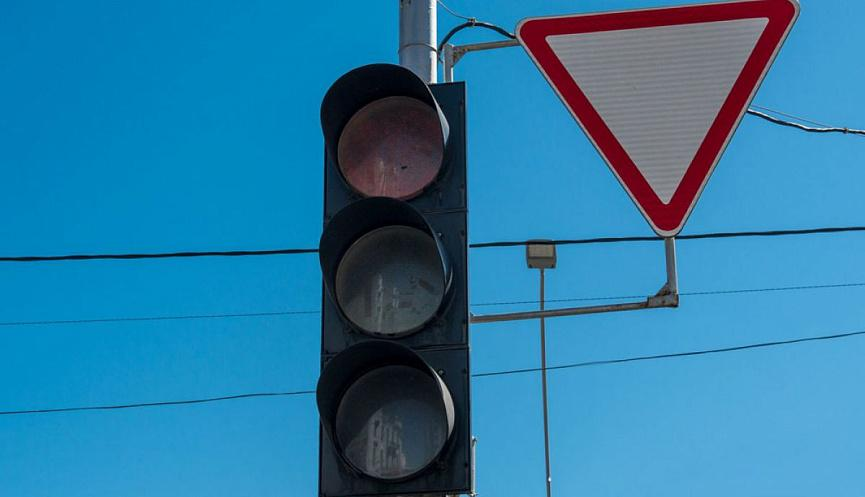off traffic light: (316, 61, 471, 496)
road_sign: (515, 0, 800, 236)
